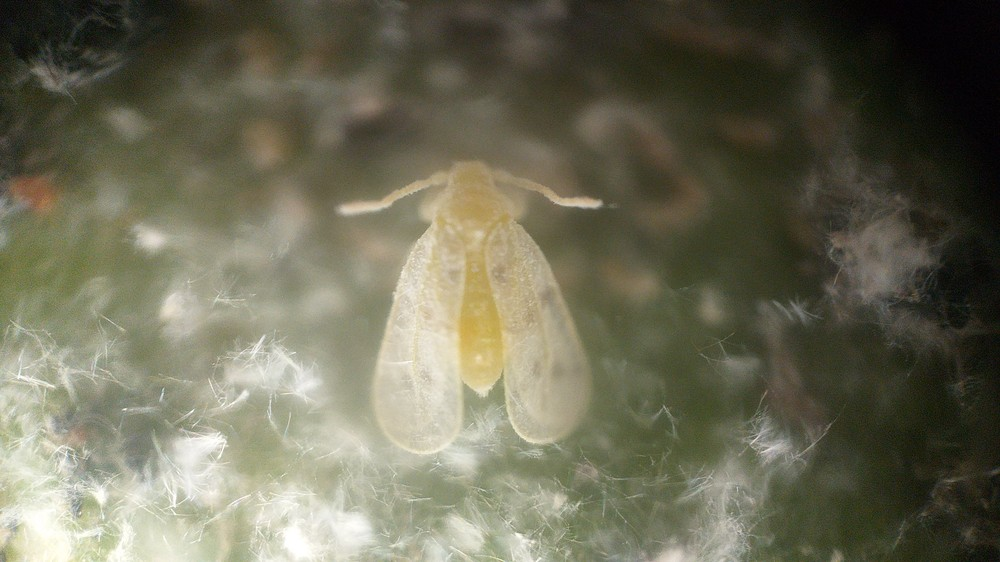Mosca Blanca: (319, 147, 646, 461)
